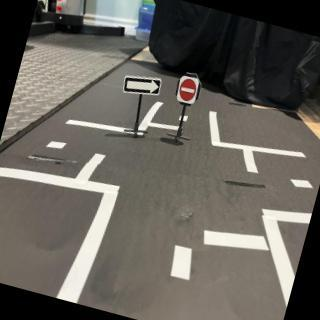sign_noentry: (173, 72, 203, 109)
sign_oneway_right: (121, 68, 166, 105)
